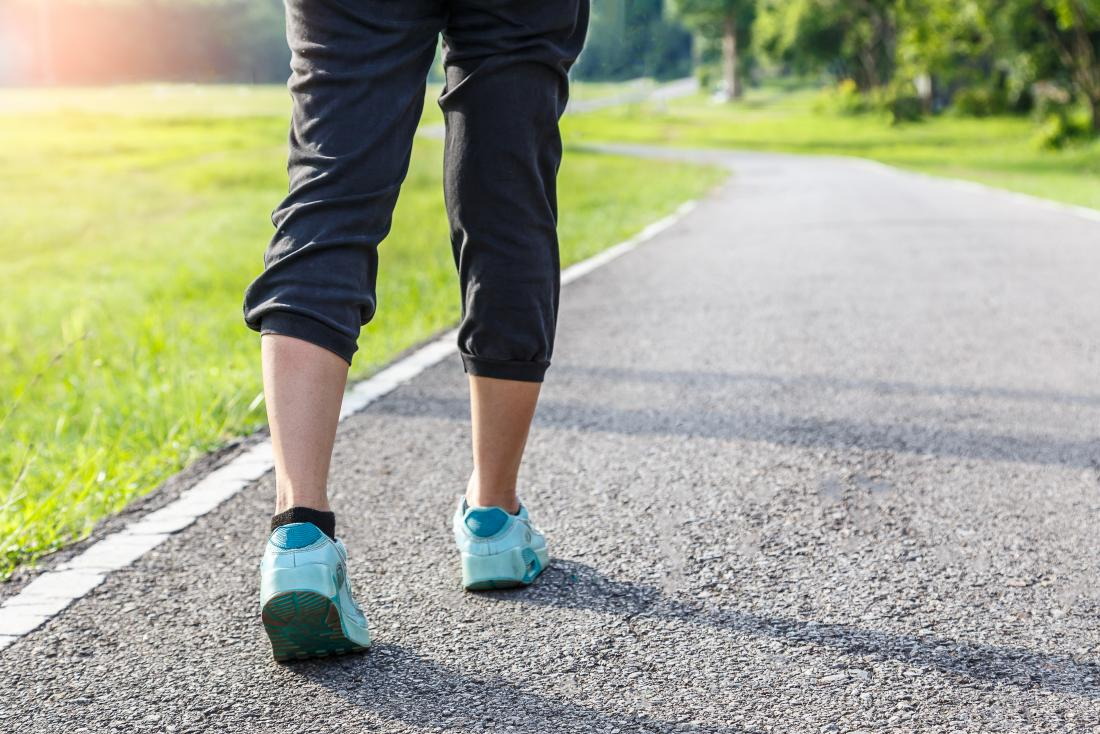feet: (229, 453, 554, 669)
